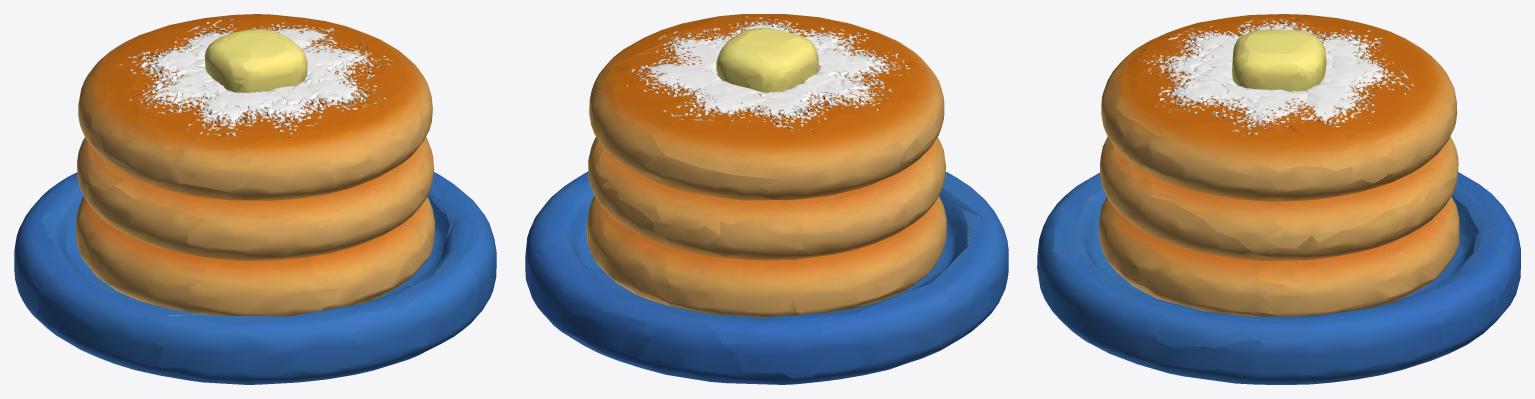
File: pannenkoek.glb
The picture shows the model from 3 angles, left to right: view 1: azimuth 30°, elevation 25°; view 2: azimuth 150°, elevation 25°; view 3: azimuth 270°, elevation 25°; orthographic projection.
Parts seen in each view (by area): view 1: Mesh_0; view 2: Mesh_0; view 3: Mesh_0.
Part boxes in pixels (x1,y1,x2,y2): Mesh_0: (14,14,496,384); Mesh_0: (525,14,1008,384); Mesh_0: (1037,14,1520,384).
Bounding box in the file's own units: 1.9 × 1.1 × 1.9.
Materials: 1 (1 with a texture image).
